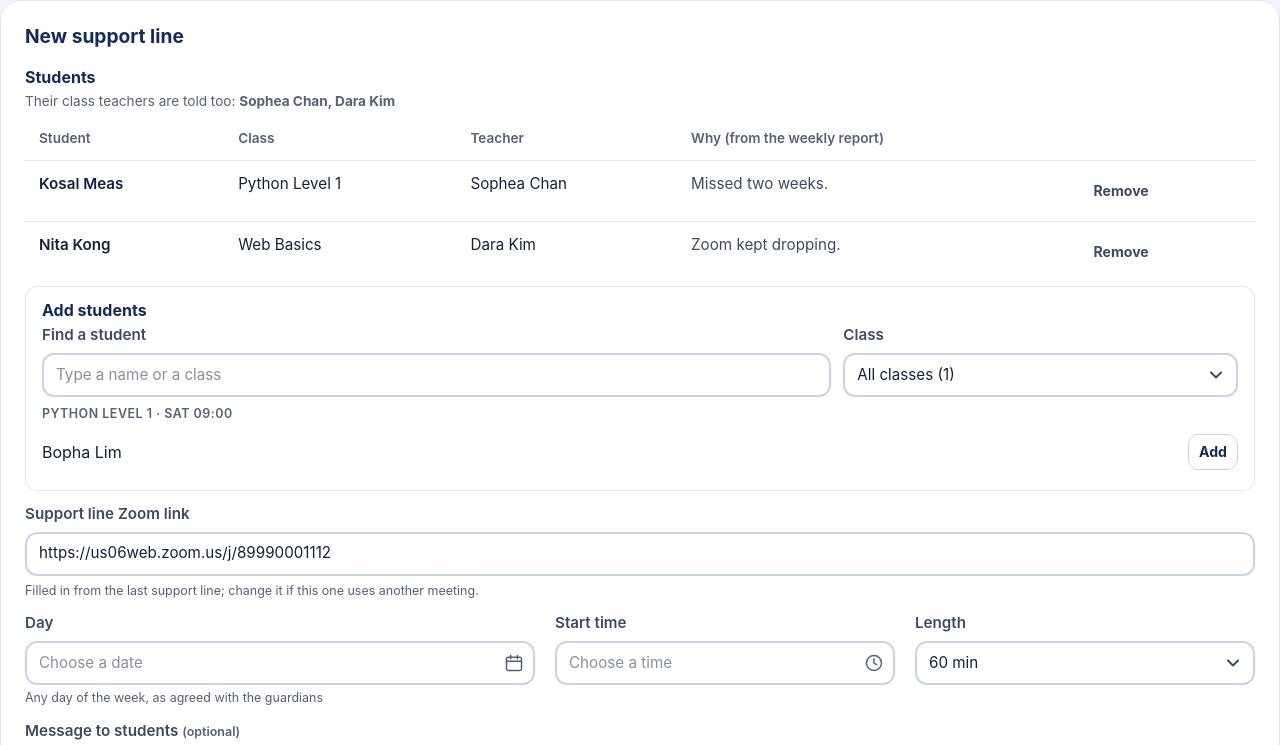
Test: SupportLineForm › removes a student, and adds any other one from the finder
The width and height of the screenshot is (1280, 745).
Click the button with aria-label "Remove Nita Kong": (1121, 252) [1082,234,1160,270]
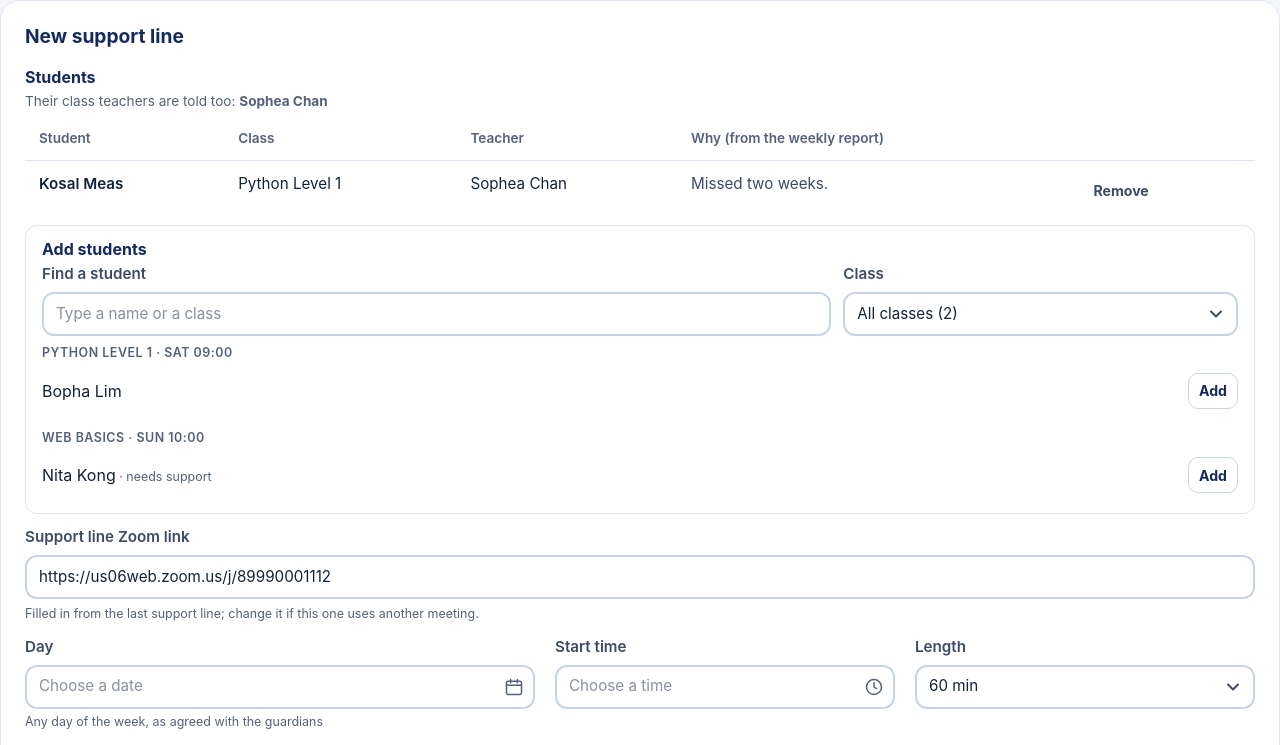
Expected: the text with test id "teachers-told" reads "Sophea Chan", [239,93,328,109]
Click the button with aria-label "Add Bopha Lim": (1213, 391) [1188,373,1238,409]
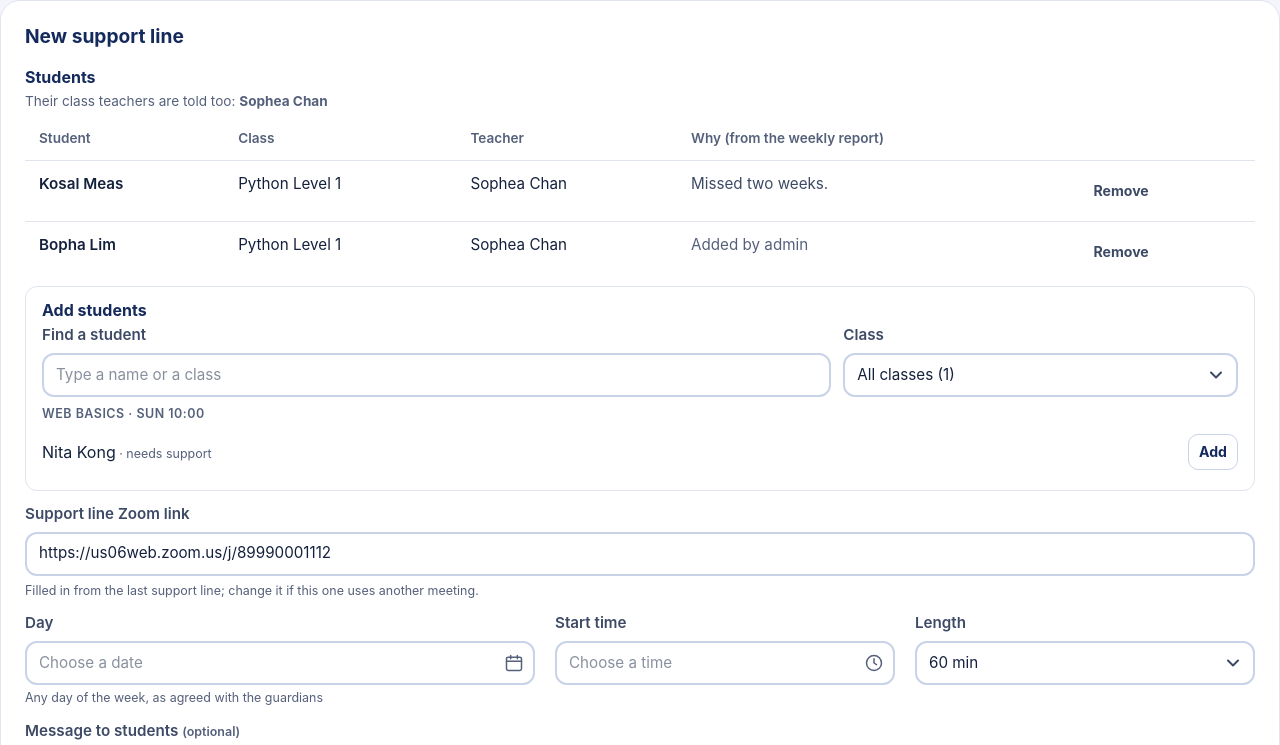
Result: the text "Added by admin" is shown at [691,235,808,254]
